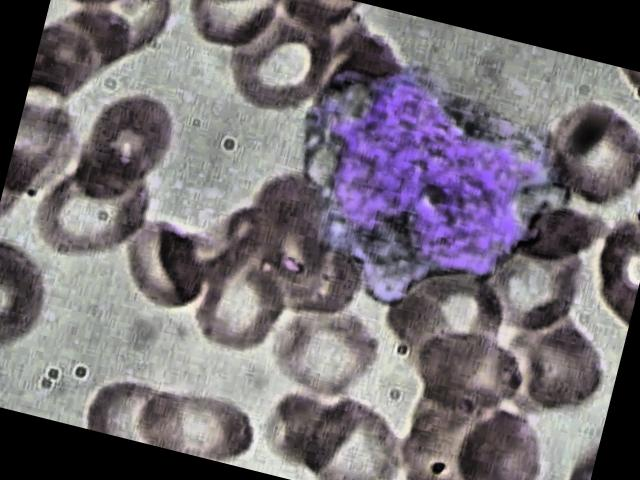RBC: (24, 141, 162, 277), (264, 290, 394, 404), (535, 90, 640, 220), (129, 375, 270, 471), (509, 313, 617, 421), (408, 320, 528, 414), (78, 82, 182, 190), (110, 208, 213, 316), (78, 369, 193, 452), (447, 400, 555, 480), (0, 237, 63, 361)
WBC: (271, 39, 592, 348)
